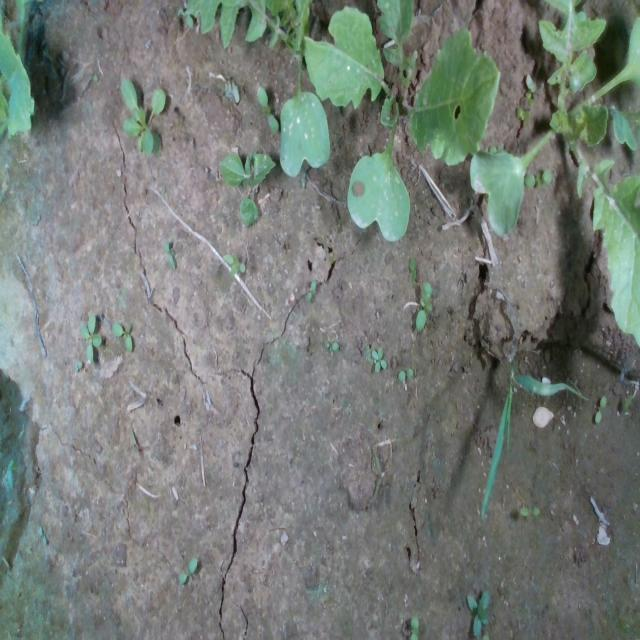weed: (78, 311, 102, 366), (255, 84, 279, 132), (414, 281, 432, 332), (110, 320, 133, 355), (222, 249, 246, 275), (177, 556, 197, 584), (593, 392, 607, 424), (371, 345, 387, 371), (164, 239, 176, 270), (397, 366, 413, 382), (518, 506, 540, 517), (408, 256, 416, 284), (322, 338, 339, 351), (306, 278, 316, 300), (37, 525, 47, 546)
